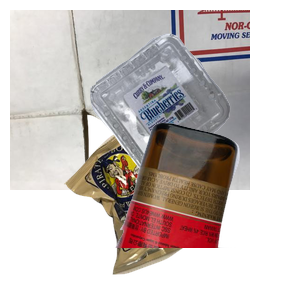cardboard: (10, 10, 250, 190)
glass: (113, 120, 300, 300)
plastic: (88, 31, 300, 198)
trash: (61, 127, 260, 300)
